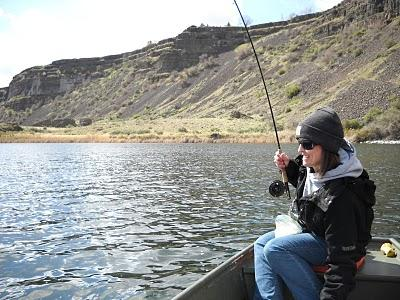person: (254, 109, 375, 300)
